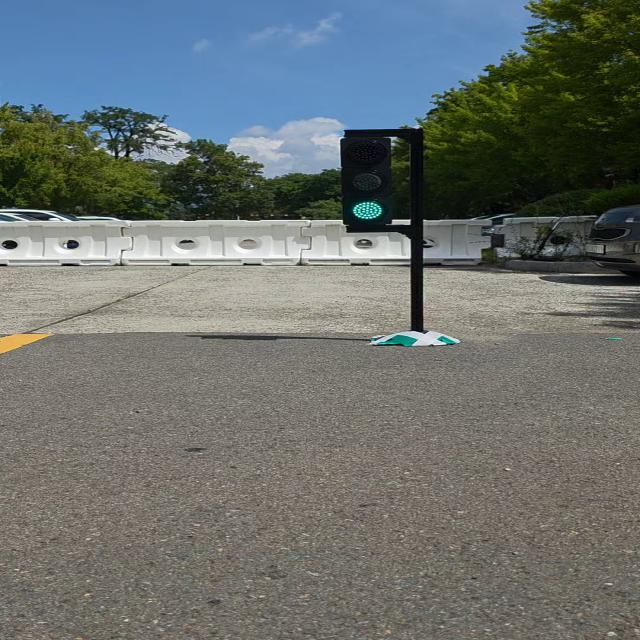green: (339, 136, 393, 232)
